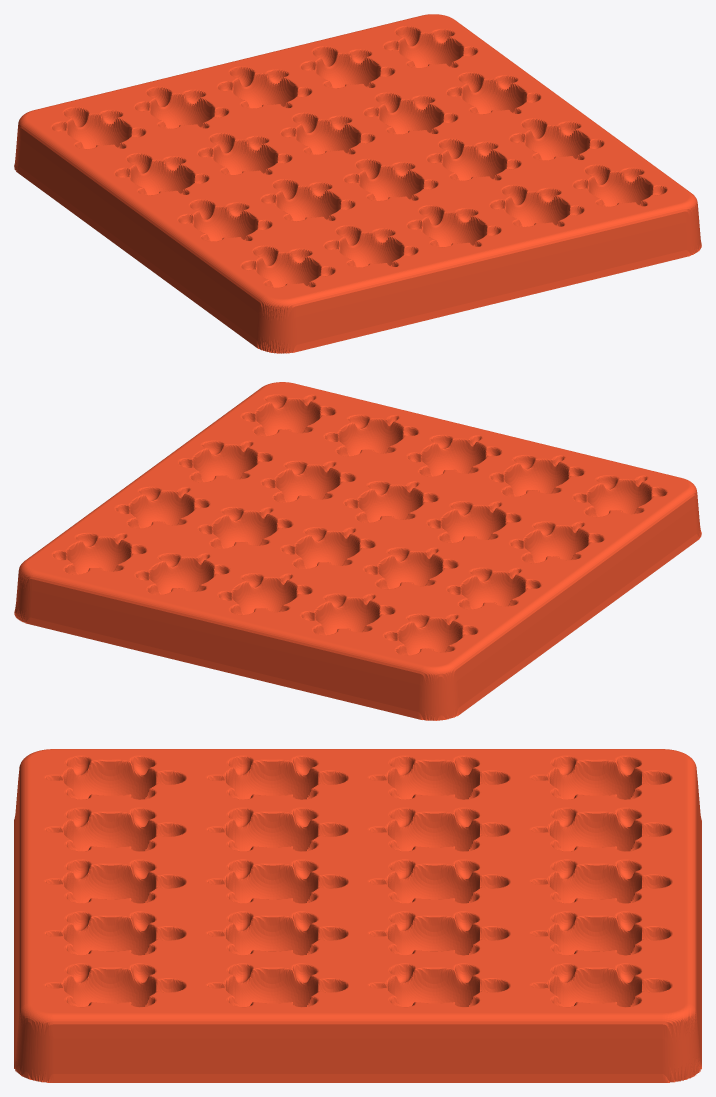
The model's file is mold.glb.
3 views of the same model, one above another, from view 1: azimuth 30°, elevation 25°; view 2: azimuth 150°, elevation 25°; view 3: azimuth 270°, elevation 25° (orthographic). The views are drawn at different scales.
Parts seen in each view (by area): view 1: geometry_0; view 2: geometry_0; view 3: geometry_0.
Part boxes in pixels (box(x1,y1,x2,y2)): geometry_0: box(14, 14, 701, 353); geometry_0: box(14, 382, 701, 720); geometry_0: box(14, 749, 701, 1082).
Bounding box in the file's own units: 0.1499 × 0.0159 × 0.1576.
